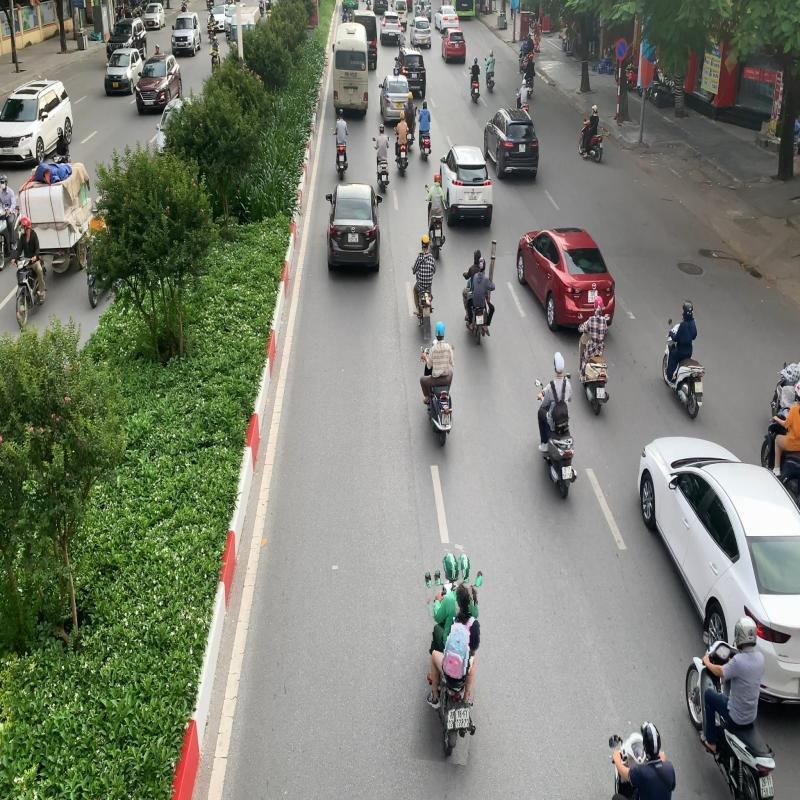helmet: (443, 548, 462, 584)
licenseplate: (454, 702, 472, 731)
motorcyclist: (415, 543, 486, 764)
nohelmet: (452, 580, 474, 614)
